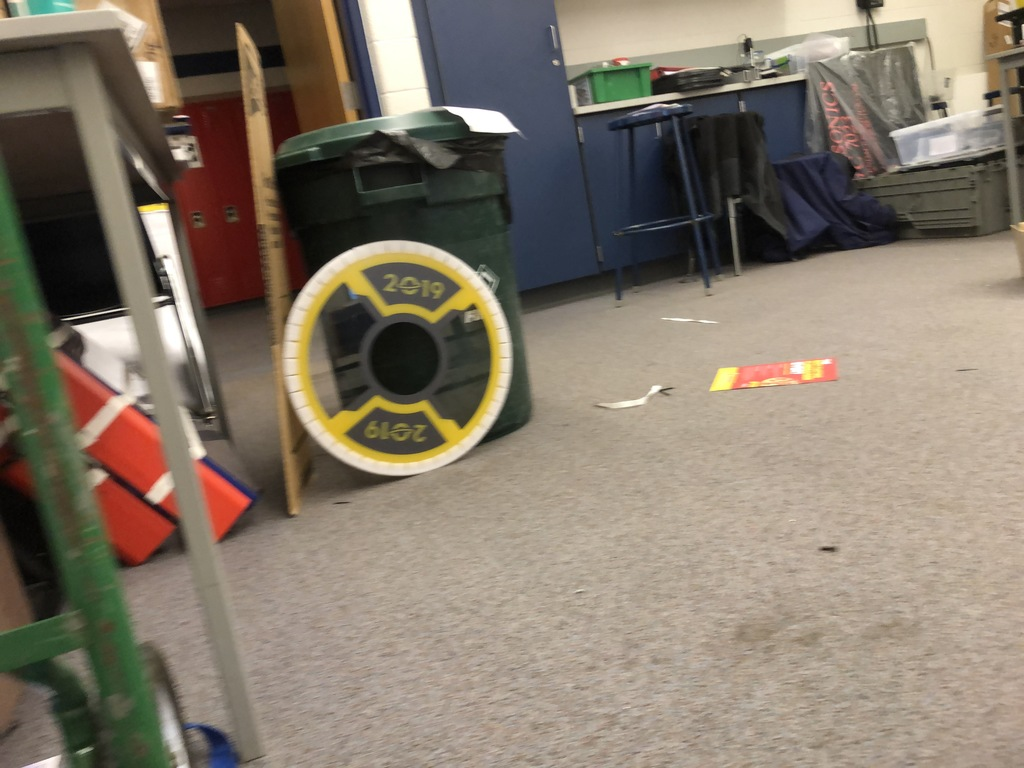hatch_panel: (262, 224, 550, 491)
